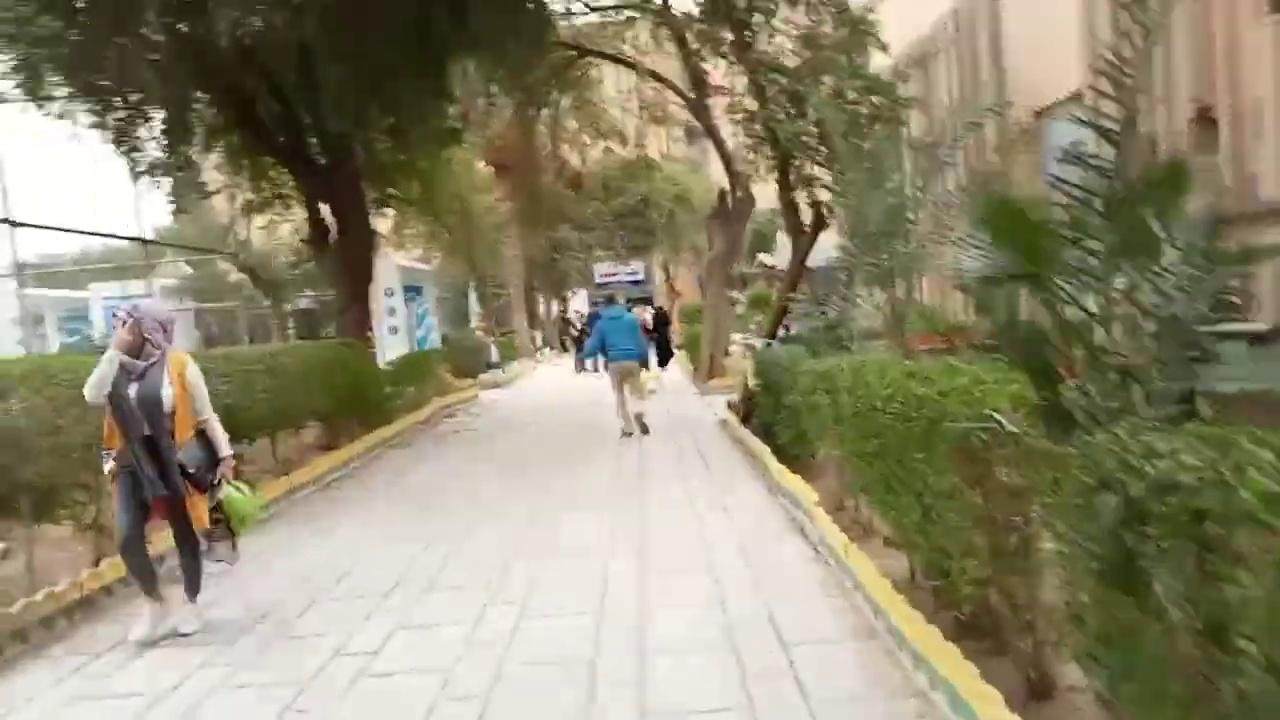person: (82, 299, 236, 643), (579, 290, 651, 437)
tree: (746, 1, 1278, 717), (4, 0, 562, 354), (538, 0, 917, 384), (718, 0, 918, 351)
